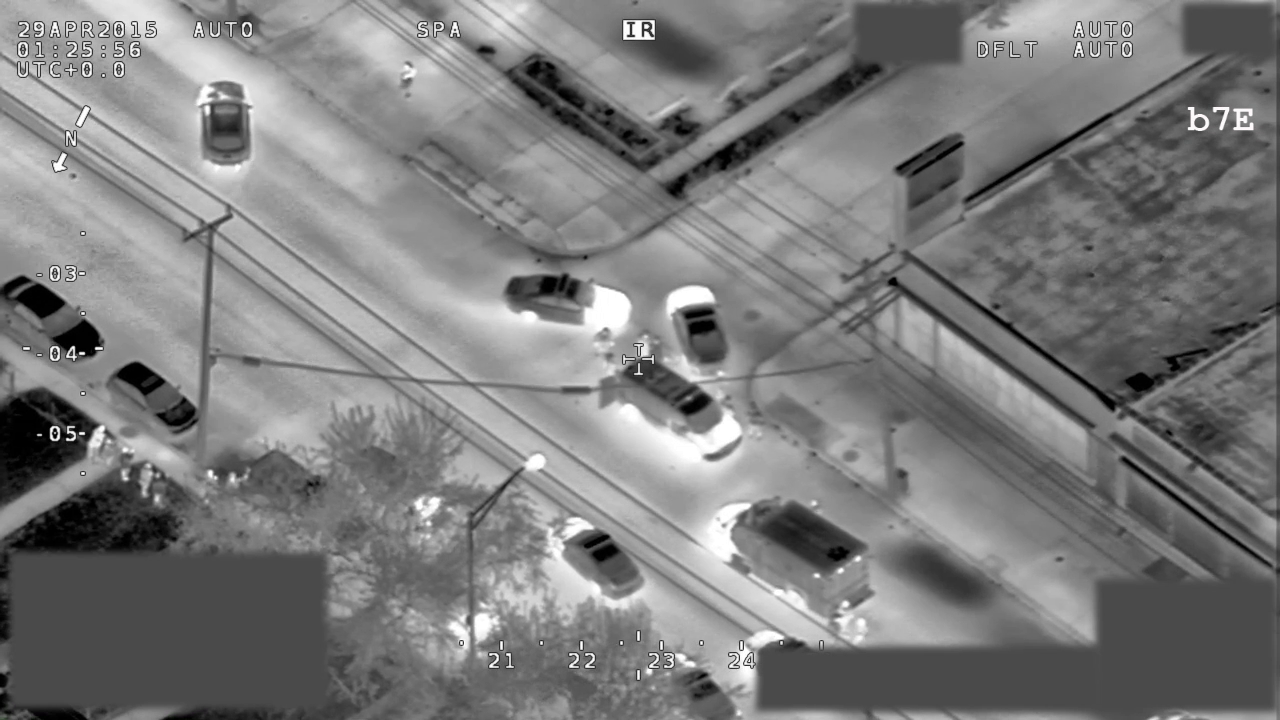vehicle: (705, 491, 882, 630), (599, 348, 746, 464), (237, 449, 379, 559), (351, 441, 462, 548), (1, 269, 105, 363), (543, 513, 650, 603), (504, 269, 632, 337), (108, 356, 202, 436), (664, 280, 732, 376), (193, 79, 258, 170)
